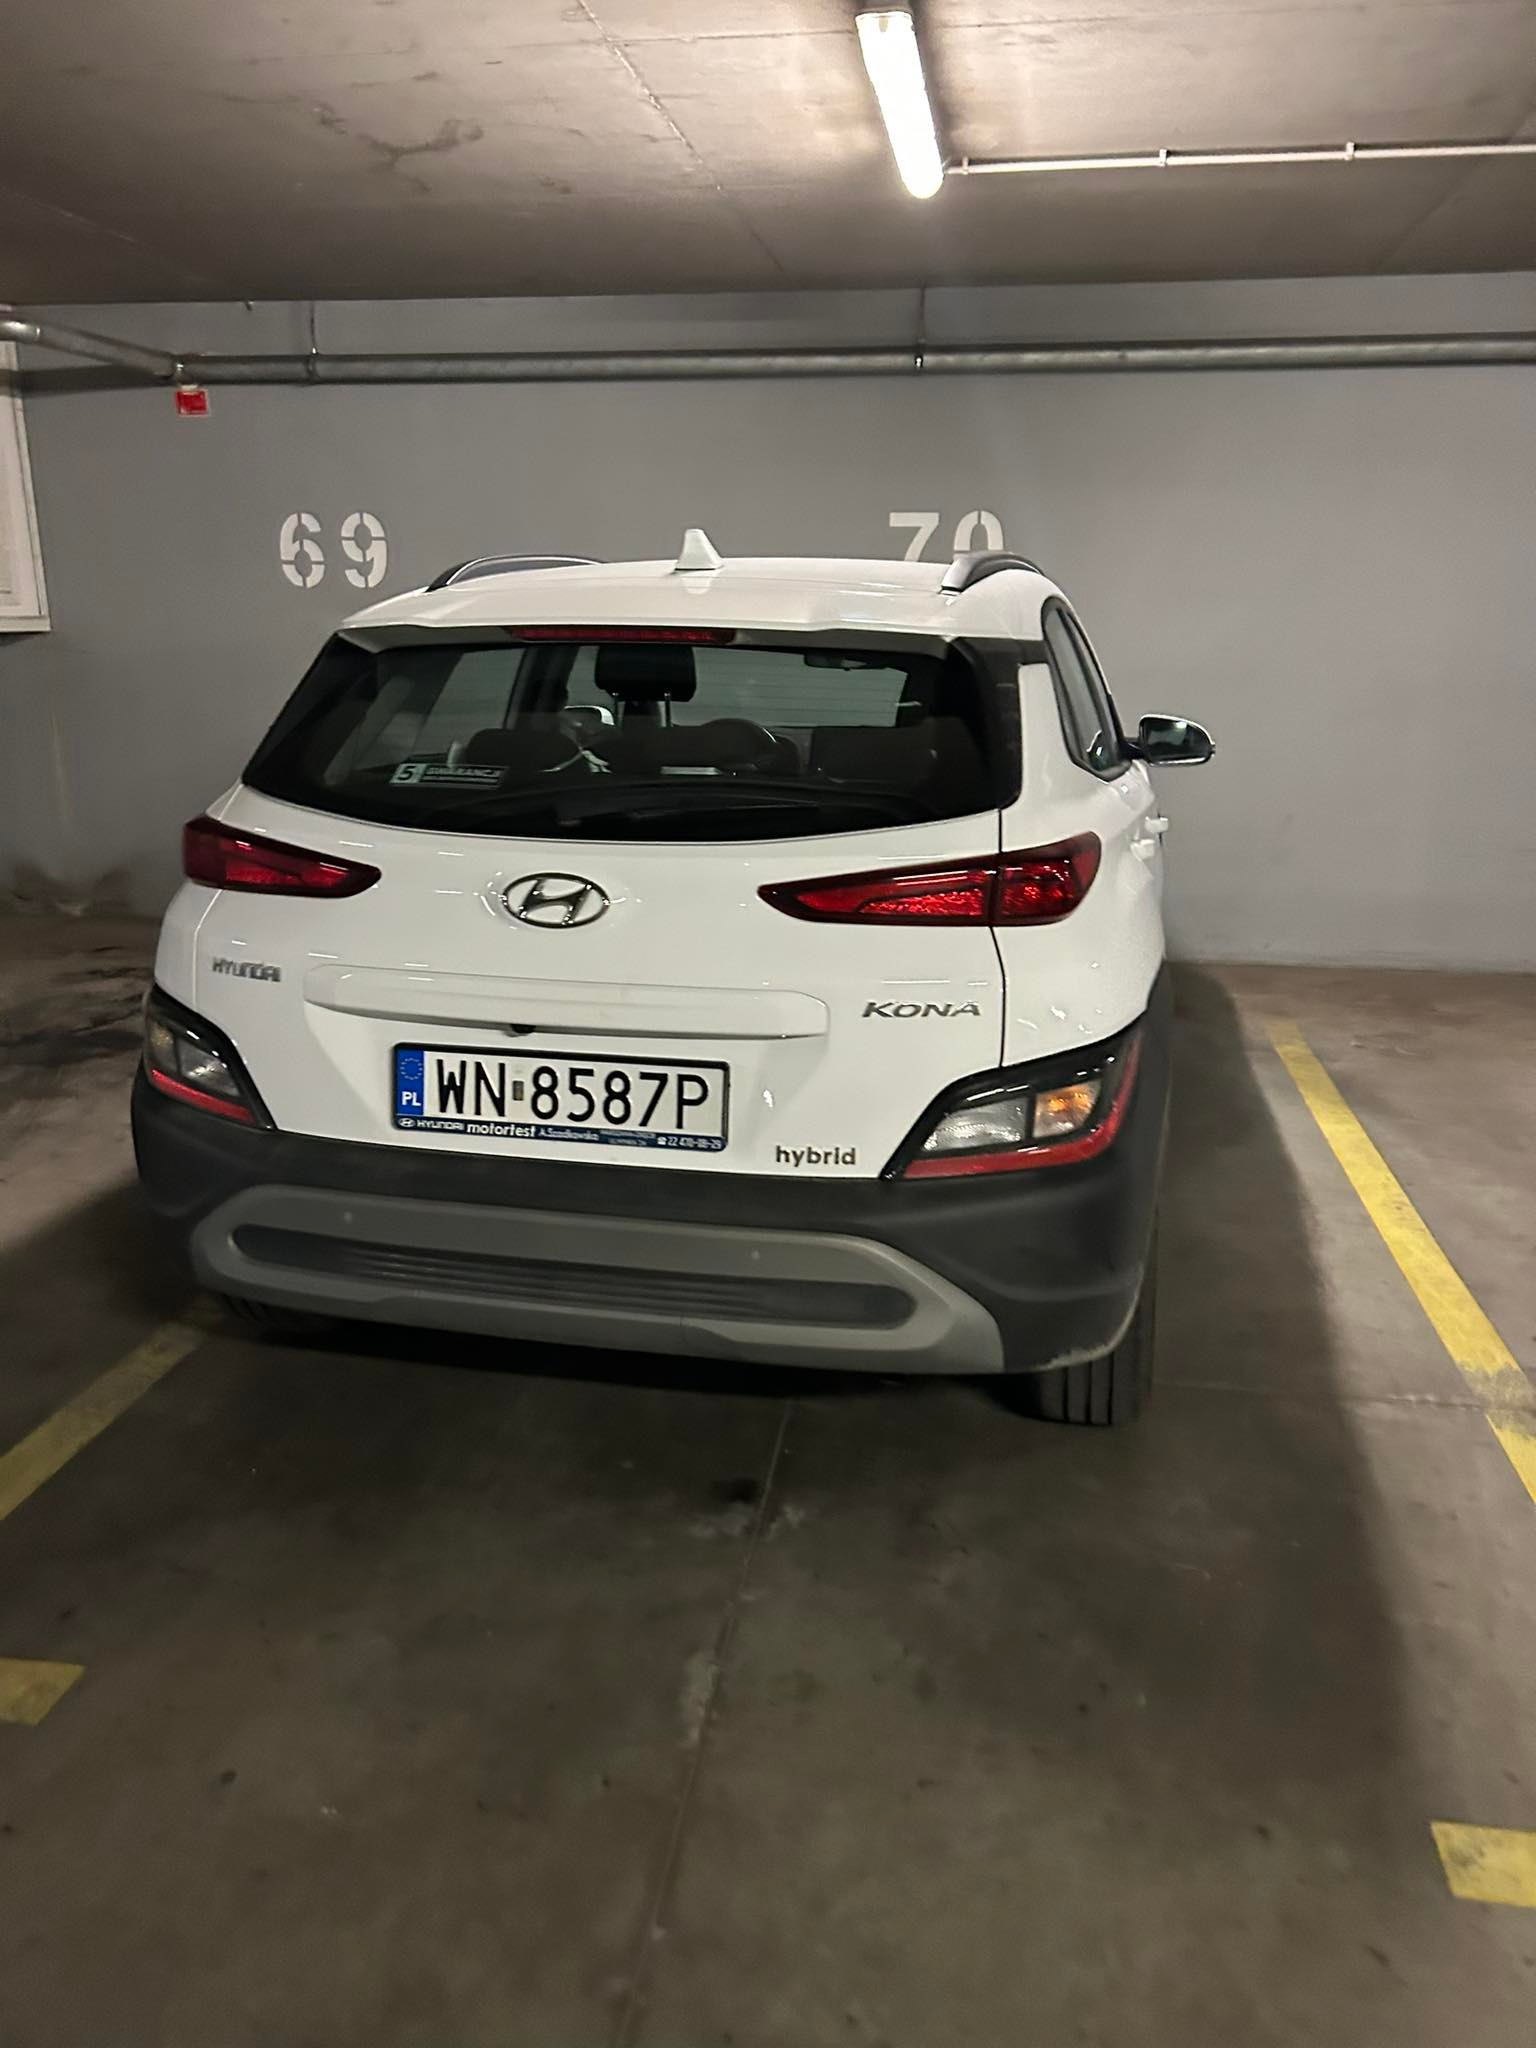number_plate: (390, 1039, 728, 1152)
